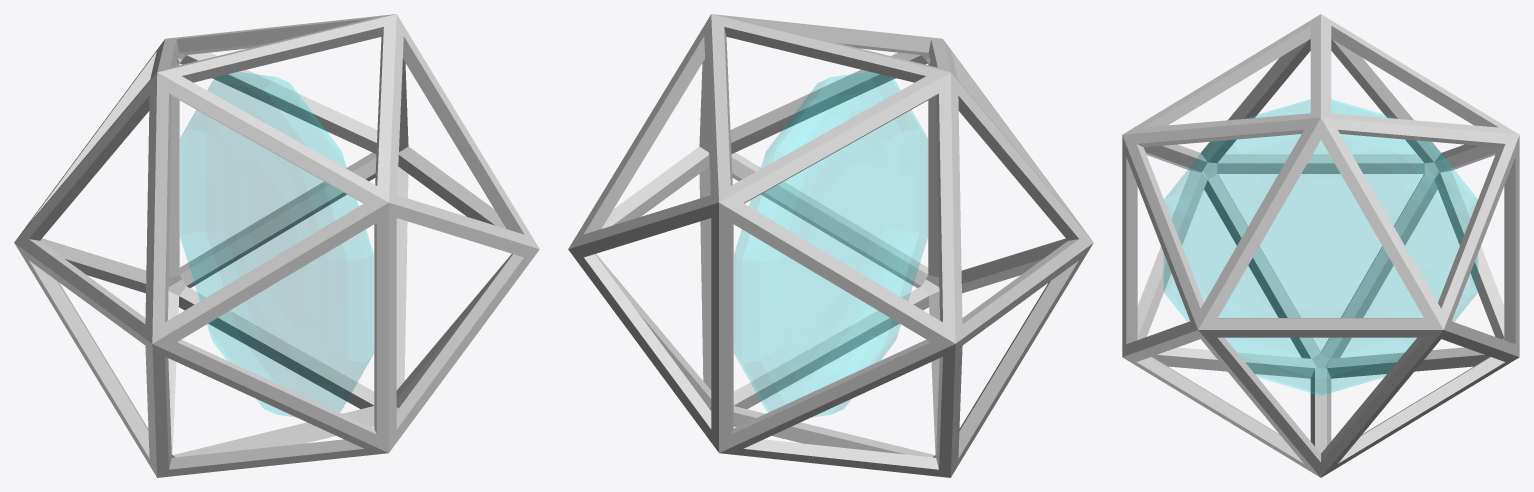
File: disk.fbx
The picture shows the model from 3 angles, left to right: view 1: azimuth 30°, elevation 25°; view 2: azimuth 150°, elevation 25°; view 3: azimuth 270°, elevation 25°; orthographic projection. The views are drawn at different scales.
Parts seen in each view (by area): view 1: Sphere, Cylinder; view 2: Sphere, Cylinder; view 3: Sphere, Cylinder.
Part boxes in pixels (left/top/right/bottom): Sphere: left=14, top=14, right=539, bottom=477; Cylinder: left=180, top=72, right=373, bottom=416; Sphere: left=568, top=14, right=1093, bottom=477; Cylinder: left=734, top=72, right=927, bottom=416; Sphere: left=1122, top=14, right=1519, bottom=477; Cylinder: left=1164, top=99, right=1477, bottom=395.
Size of the model in its own units: 170 by 170 by 170.
